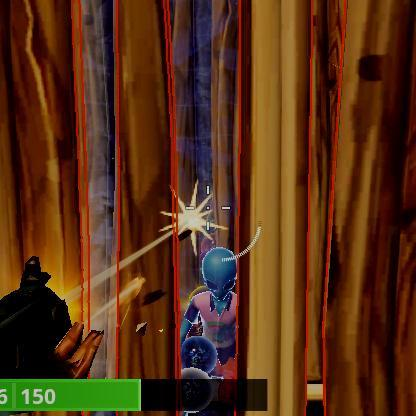person: (184, 246, 242, 378), (180, 335, 223, 390)
